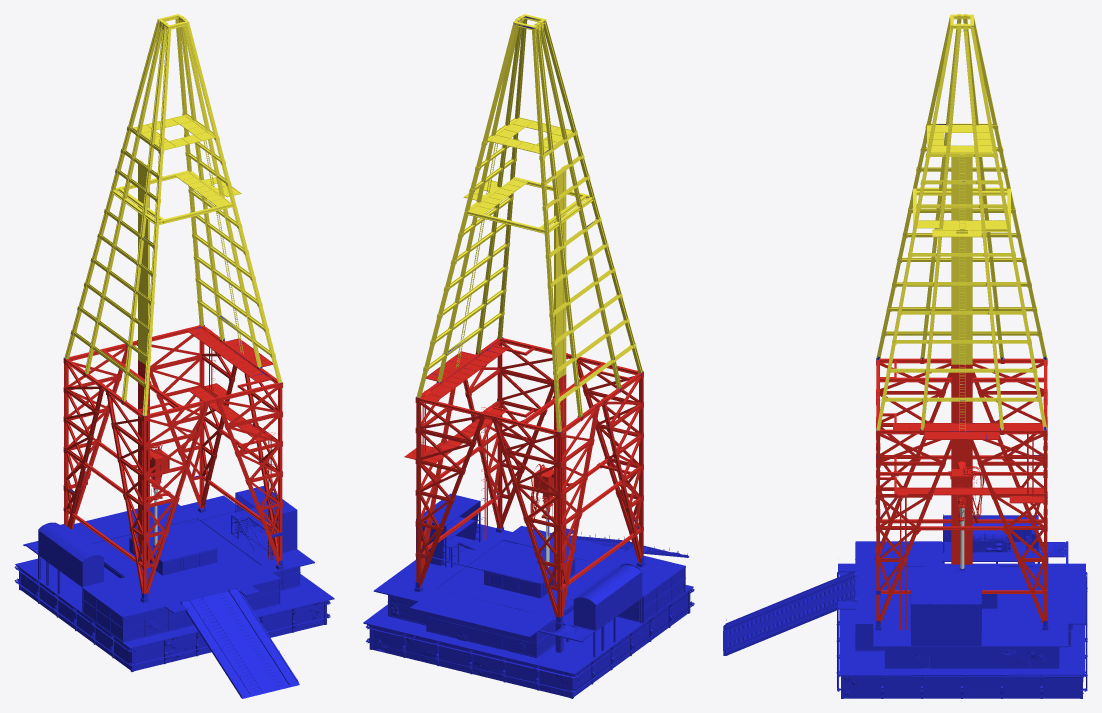
File: rigg.glb
3 views of the same model, side by side, from view 1: azimuth 30°, elevation 25°; view 2: azimuth 150°, elevation 25°; view 3: azimuth 270°, elevation 25° (orthographic). The views are drawn at different scales.
Parts seen in each view (by area): view 1: railing_element_02_Material #58_0.001__0; view 2: railing_element_02_Material #58_0.001__0; view 3: railing_element_02_Material #58_0.001__0.
Part boxes in pixels (x1,y1,x2,y2): railing_element_02_Material #58_0.001__0: [14, 14, 334, 698]; railing_element_02_Material #58_0.001__0: [363, 14, 694, 698]; railing_element_02_Material #58_0.001__0: [723, 14, 1087, 698].
Size of the model in its own units: 18.43 by 50.32 by 26.46.
